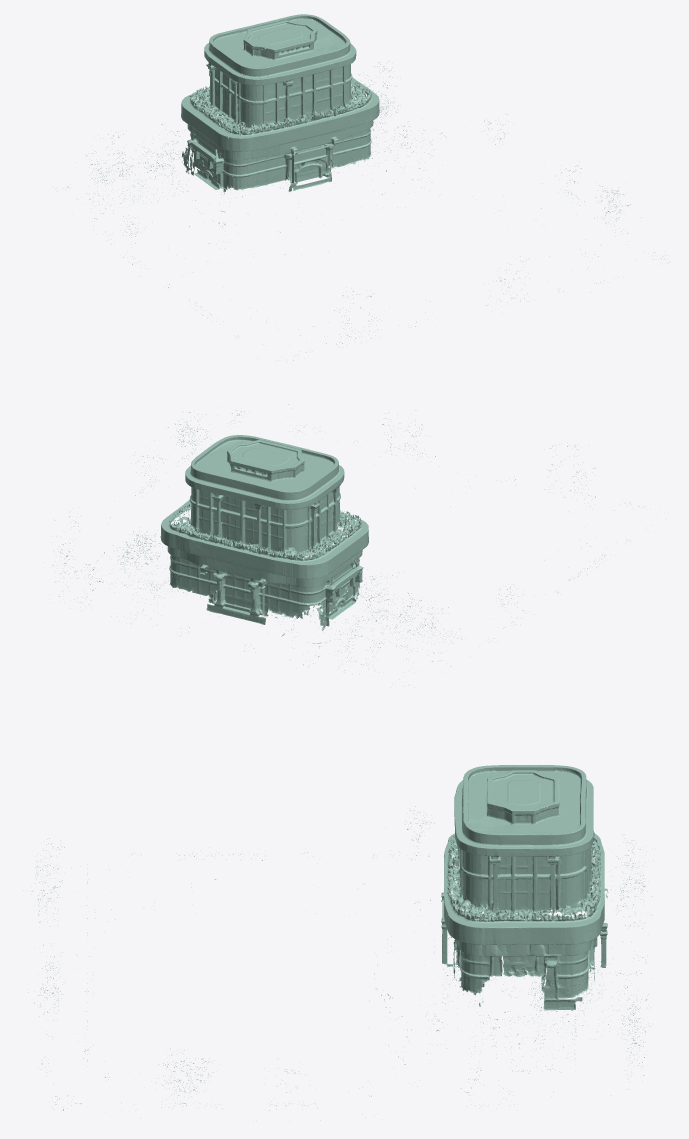
The model's file is cyberpunk-block-03-building-0.glb.
The picture shows the model from 3 angles, top to bottom: view 1: azimuth 30°, elevation 25°; view 2: azimuth 150°, elevation 25°; view 3: azimuth 270°, elevation 25°; orthographic projection. The views are drawn at different scales.
Parts seen in each view (by area): view 1: building_0; view 2: building_0; view 3: building_0.
Part boxes in pixels (box(x1,y1,x2,y2)): building_0: box(56, 14, 665, 362); building_0: box(52, 404, 666, 671); building_0: box(28, 765, 650, 1120).
Size of the model in its own units: 1.84 by 0.7135 by 1.9.
